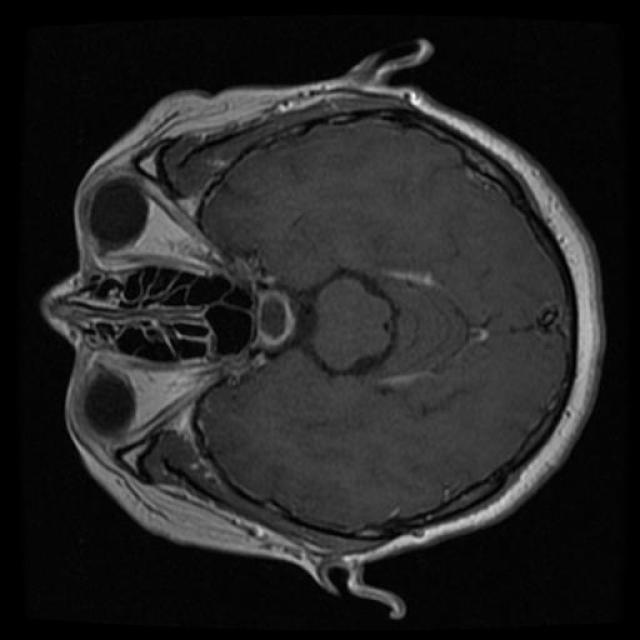Pituitary: (255, 286, 296, 353)
